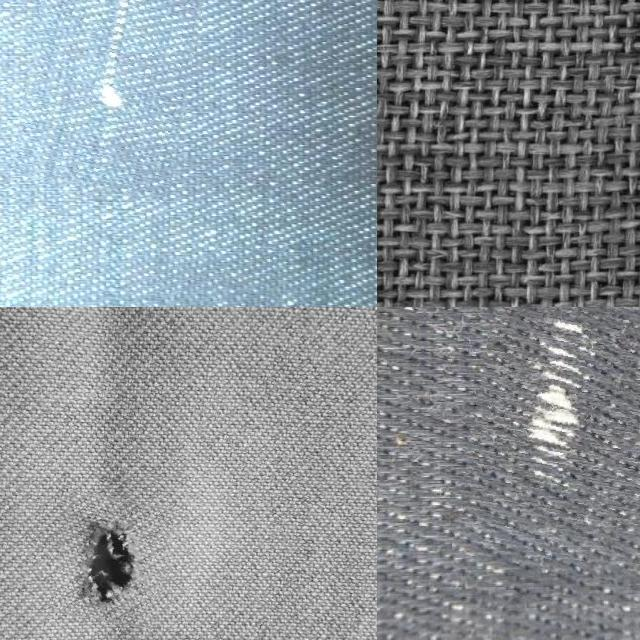Thread_other: (465, 307, 640, 578), (26, 0, 216, 194)
seam: (54, 494, 172, 626)
